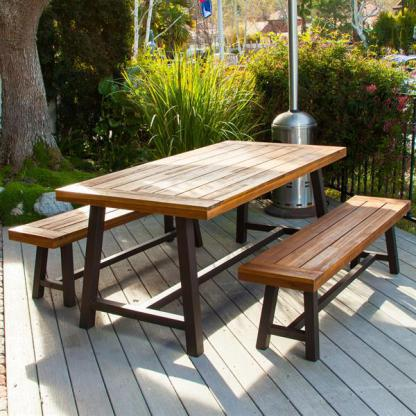table: (51, 131, 350, 362)
